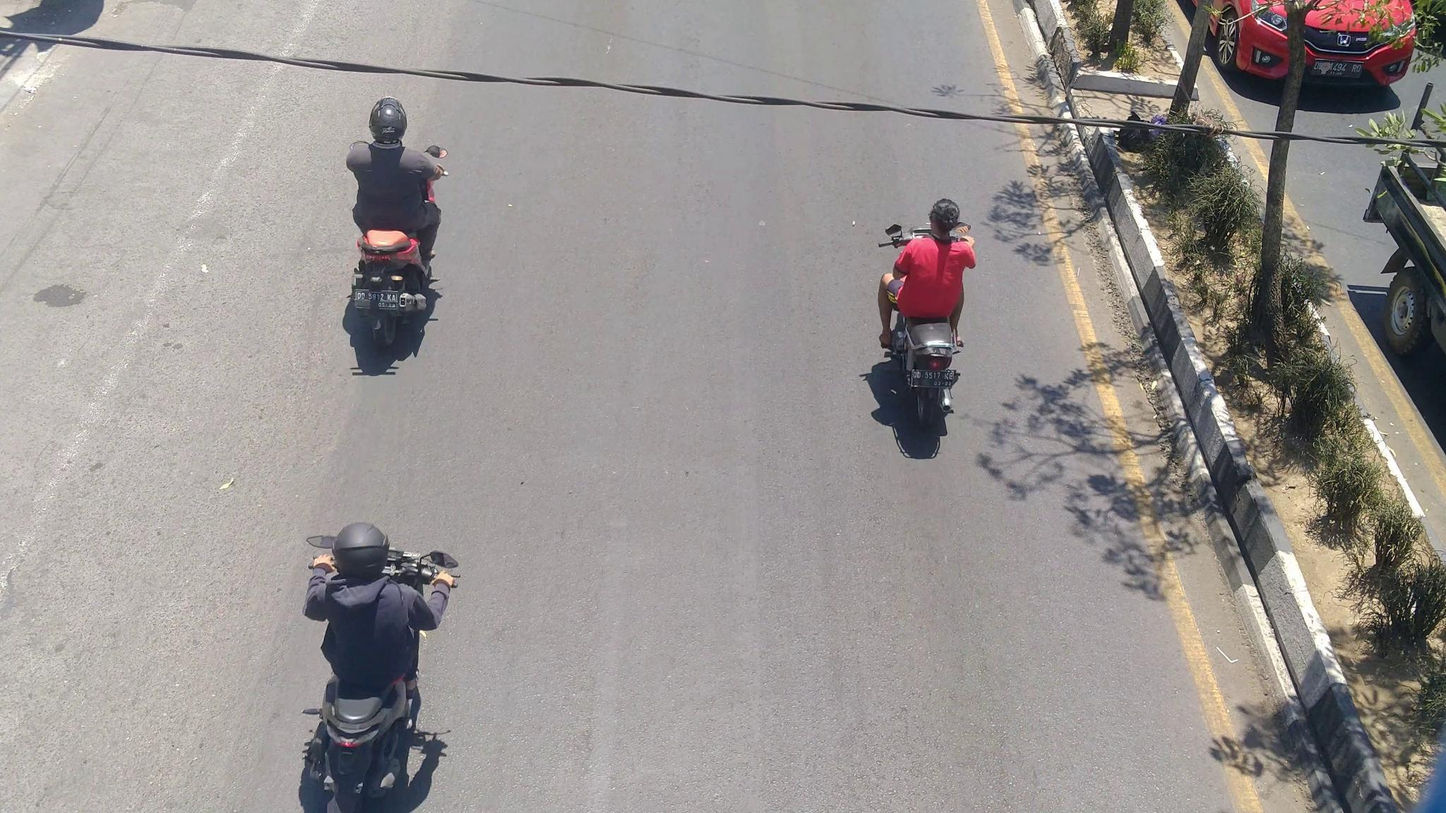Helmet: (322, 513, 392, 583), (361, 92, 414, 150)
bike: (298, 531, 458, 813), (345, 138, 447, 349), (880, 217, 972, 430)
no-helmet: (923, 193, 968, 238)
number-plate: (350, 286, 401, 314), (908, 364, 956, 392)
rider: (303, 517, 452, 701), (348, 96, 444, 263), (877, 196, 980, 347)
